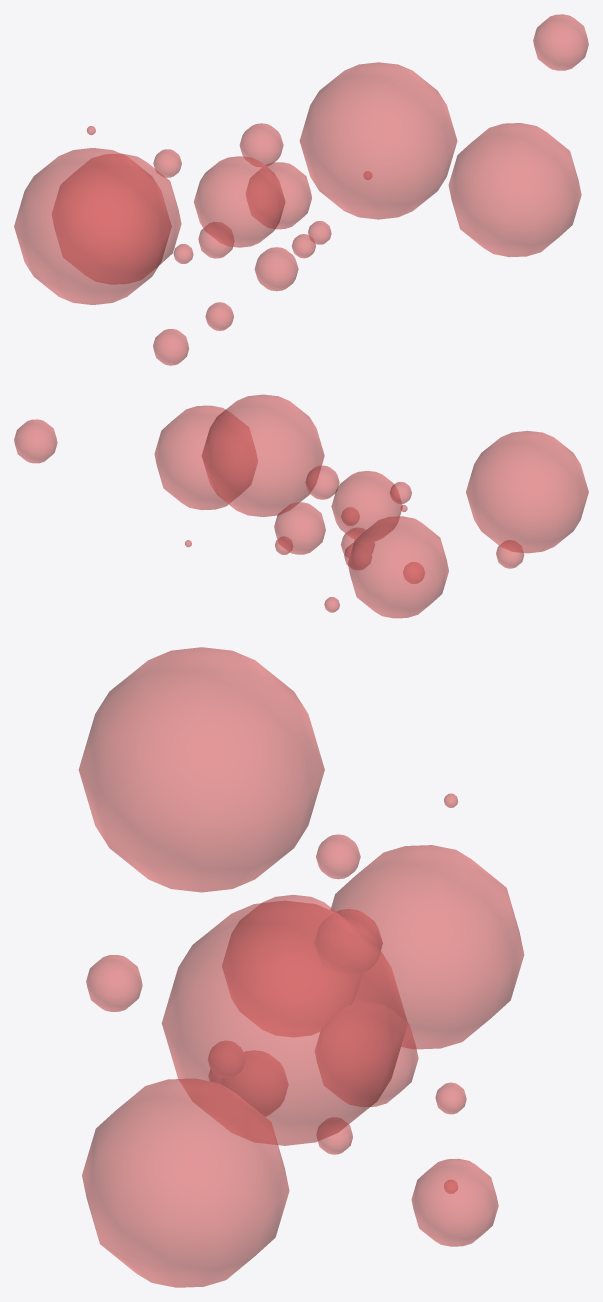
The model's file is Obstacle-Duck.fbx.
3 views of the same model, one above another, from view 1: azimuth 30°, elevation 25°; view 2: azimuth 150°, elevation 25°; view 3: azimuth 270°, elevation 25° (orthographic). The views are drawn at different scales.
Visible parts, largest first — view 1: Obstacle_Duck; view 2: Obstacle_Duck; view 3: Obstacle_Duck.
Boxes of the visible parts, left/top/right/bottom form: Obstacle_Duck: left=14, top=14, right=588, bottom=365; Obstacle_Duck: left=14, top=394, right=588, bottom=618; Obstacle_Duck: left=78, top=647, right=524, bottom=1287.
Bounding box in the file's own units: 20.89 × 6.68 × 8.06.
